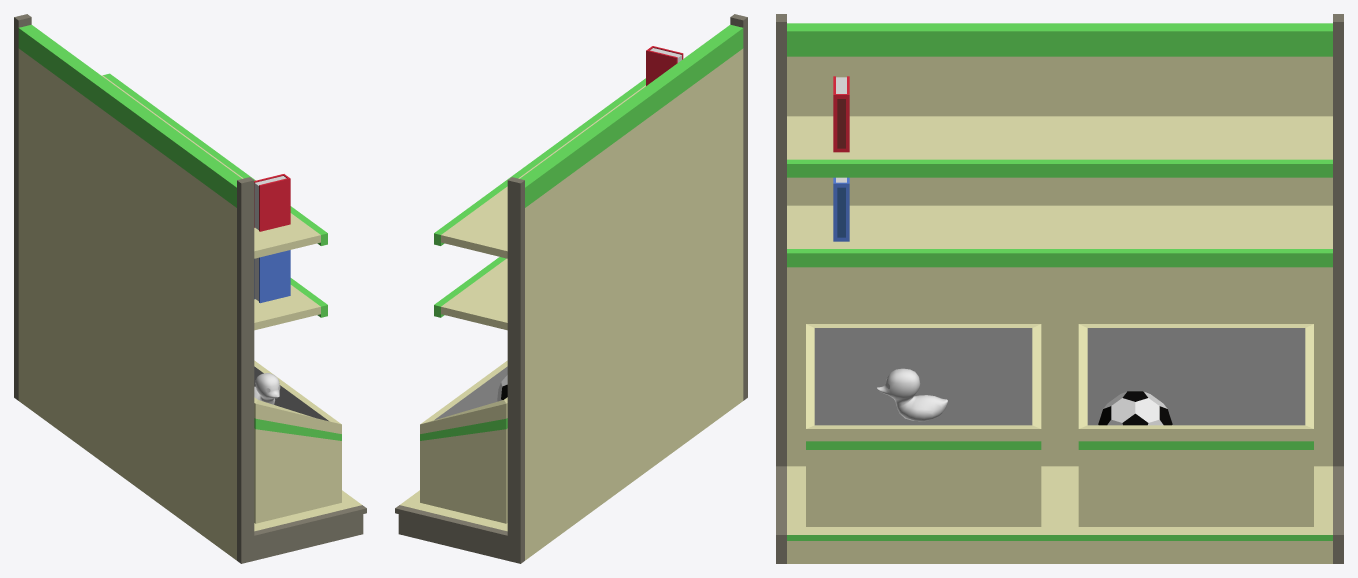
The model's file is E_Oyuncak.fbx.
The picture shows the model from 3 angles, left to right: view 1: azimuth 30°, elevation 25°; view 2: azimuth 150°, elevation 25°; view 3: azimuth 270°, elevation 25°; orthographic projection. The views are drawn at different scales.
Parts seen in each view (by area): view 1: OyuncakReyon, KırmızıKitap, MaviKitap, Ördek; view 2: OyuncakReyon, KırmızıKitap; view 3: OyuncakReyon, Ördek, Top, KırmızıKitap, MaviKitap.
Part boxes in pixels (x1,y1,x2,y2): OyuncakReyon: (14, 14, 366, 563); KırmızıKitap: (254, 174, 290, 231); MaviKitap: (254, 250, 290, 303); Ördek: (254, 373, 280, 404); OyuncakReyon: (395, 14, 747, 563); KırmızıKitap: (646, 46, 683, 85); OyuncakReyon: (776, 14, 1343, 563); Ördek: (876, 368, 947, 421); Top: (1098, 391, 1172, 425); KırmızıKitap: (833, 76, 849, 152); MaviKitap: (833, 177, 849, 241).
Bounding box in the file's own units: 70.75 × 205 × 222.
